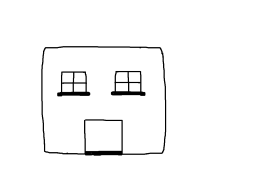closed_window: (52, 69, 100, 101), (106, 67, 150, 98)
door: (80, 114, 130, 158)
single_line_roof: (35, 34, 170, 62)
wall: (37, 63, 169, 160)
